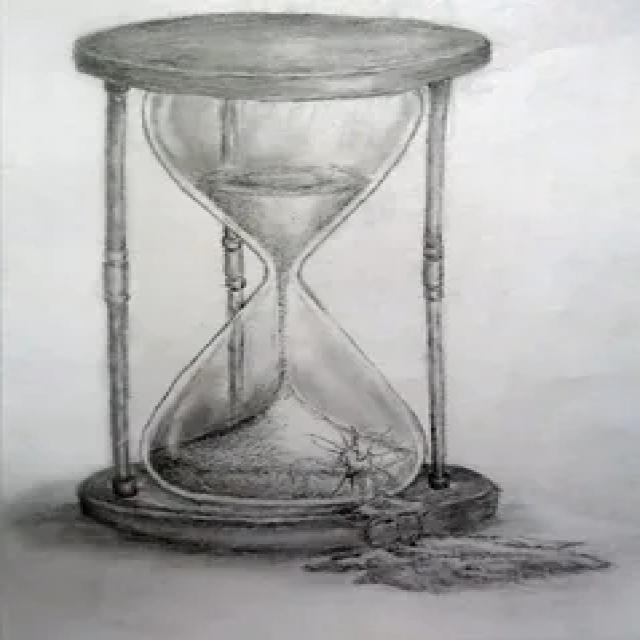clock: (66, 0, 522, 576)
